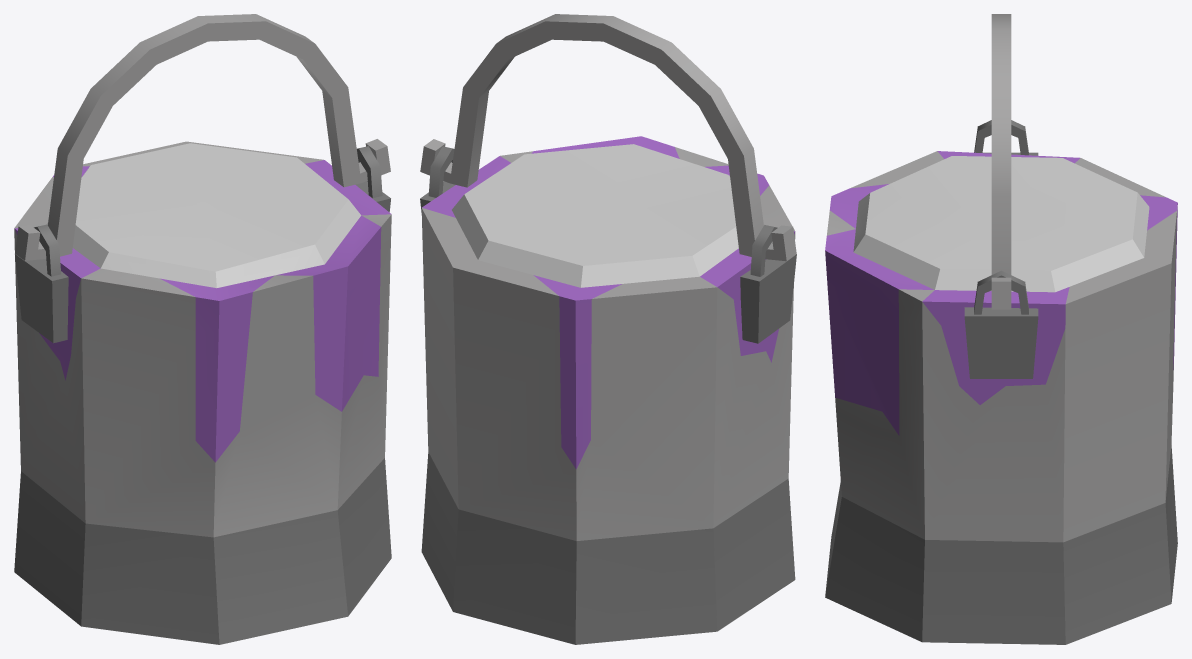
Rendered from SR_Paint_Can_01.fbx.
3 views of the same model, side by side, from view 1: azimuth 30°, elevation 25°; view 2: azimuth 150°, elevation 25°; view 3: azimuth 270°, elevation 25° (orthographic).
Parts seen in each view (by area): view 1: SR_Paint_Can_01, SR_Paint_Can_Handle; view 2: SR_Paint_Can_01, SR_Paint_Can_Handle; view 3: SR_Paint_Can_01, SR_Paint_Can_Handle.
Boxes of the visible parts, x1,y1,x2,y2 form: SR_Paint_Can_01: (14, 141, 391, 644); SR_Paint_Can_Handle: (15, 14, 390, 260); SR_Paint_Can_01: (420, 136, 796, 644); SR_Paint_Can_Handle: (420, 14, 796, 261); SR_Paint_Can_01: (825, 120, 1177, 644); SR_Paint_Can_Handle: (991, 14, 1011, 309).
Bounding box in the file's own units: 35.98 × 51.25 × 30.33.
